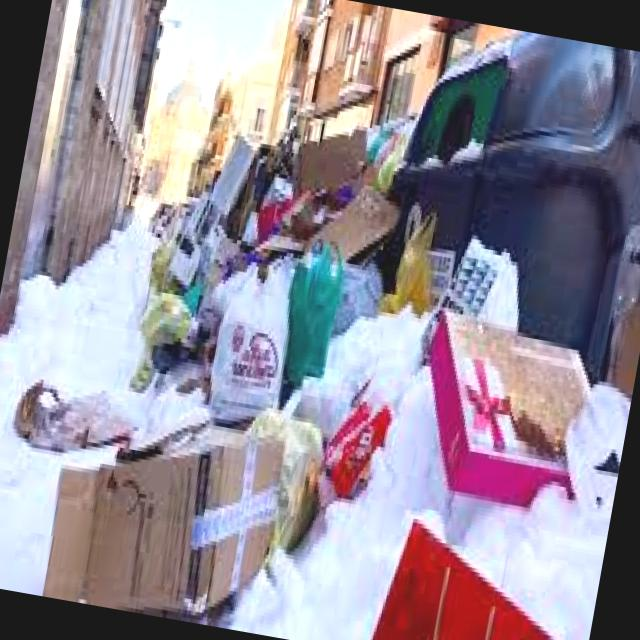garbage: (65, 94, 629, 640)
